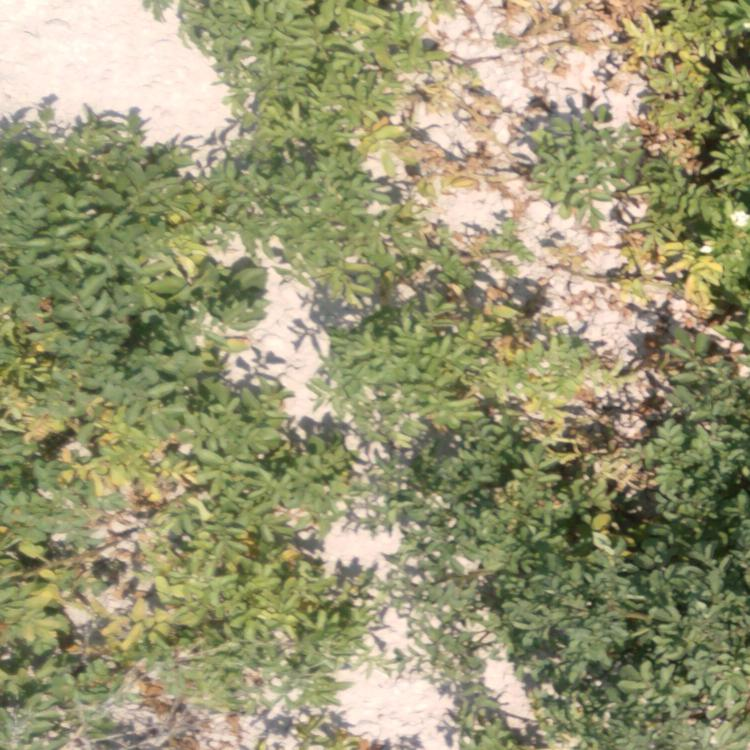healthy: (413, 549, 750, 743), (3, 123, 187, 349), (204, 6, 336, 235), (407, 385, 511, 541), (671, 364, 750, 540), (217, 388, 354, 486)
stressed: (9, 363, 212, 740), (548, 1, 750, 273), (349, 239, 611, 380), (220, 492, 363, 738), (345, 1, 465, 232), (531, 391, 663, 538)
